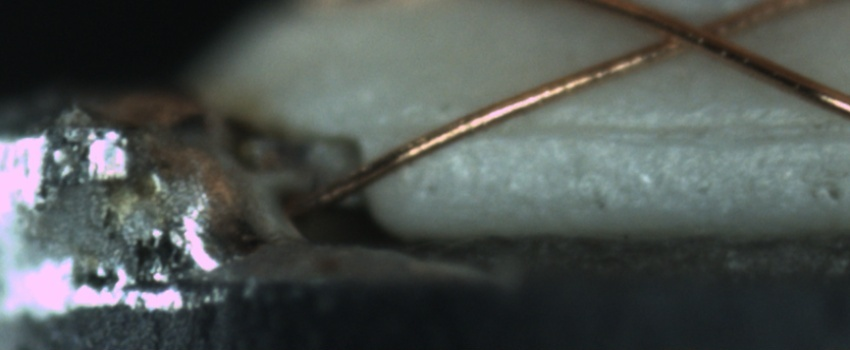CL: (629, 5, 757, 61)
DL: (408, 98, 850, 162)
